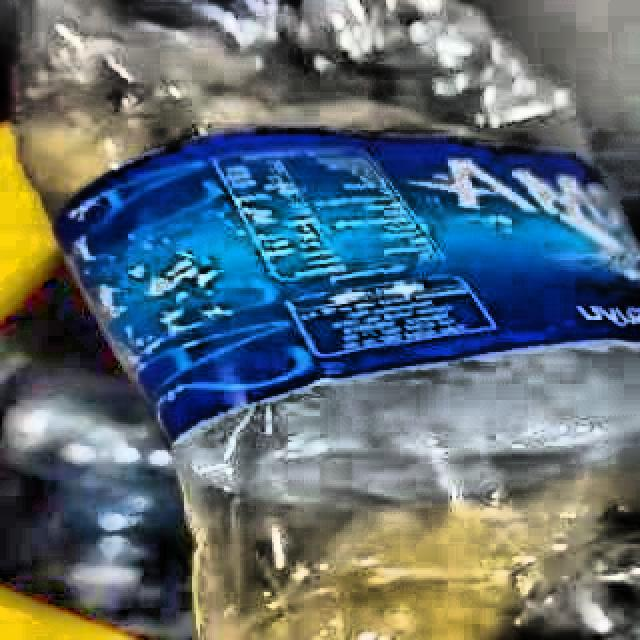plastic: (11, 0, 640, 640)
